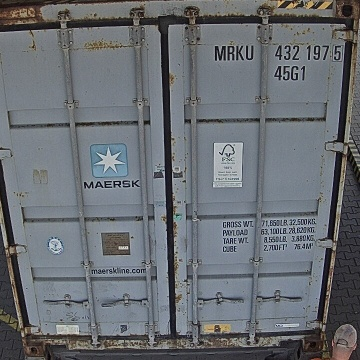serial_id: (215, 45, 343, 60)
